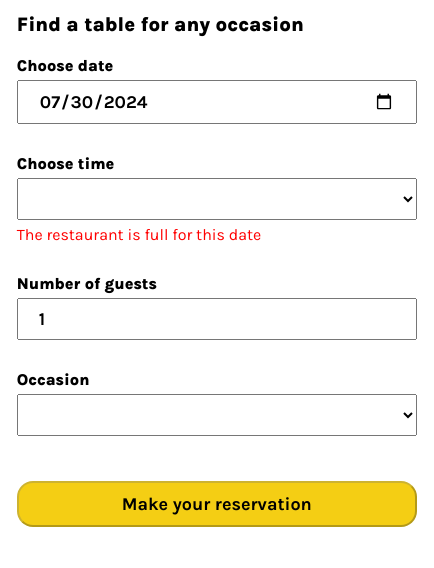
Validation incorrect for BookingForm - less than 1 guest selected
This screenshot has width=434, height=568.
Type "0" into the number field with id "guests". click: (217, 319)
box: [17,298,417,340]
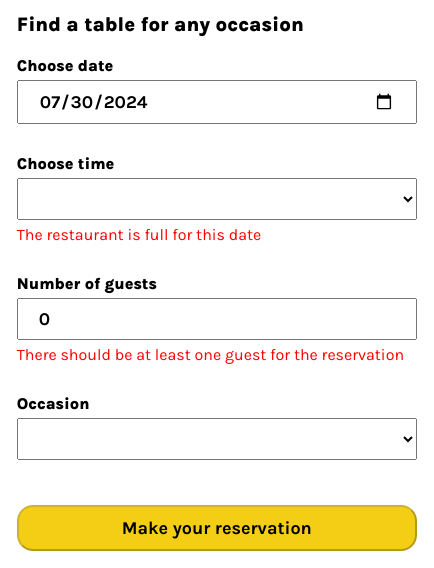
Expected: the button with id "submit-button" is disabled, [17,505,417,551]
Expected: the text "There should be at least one guest for the reservation" is shown, [17,345,417,364]
